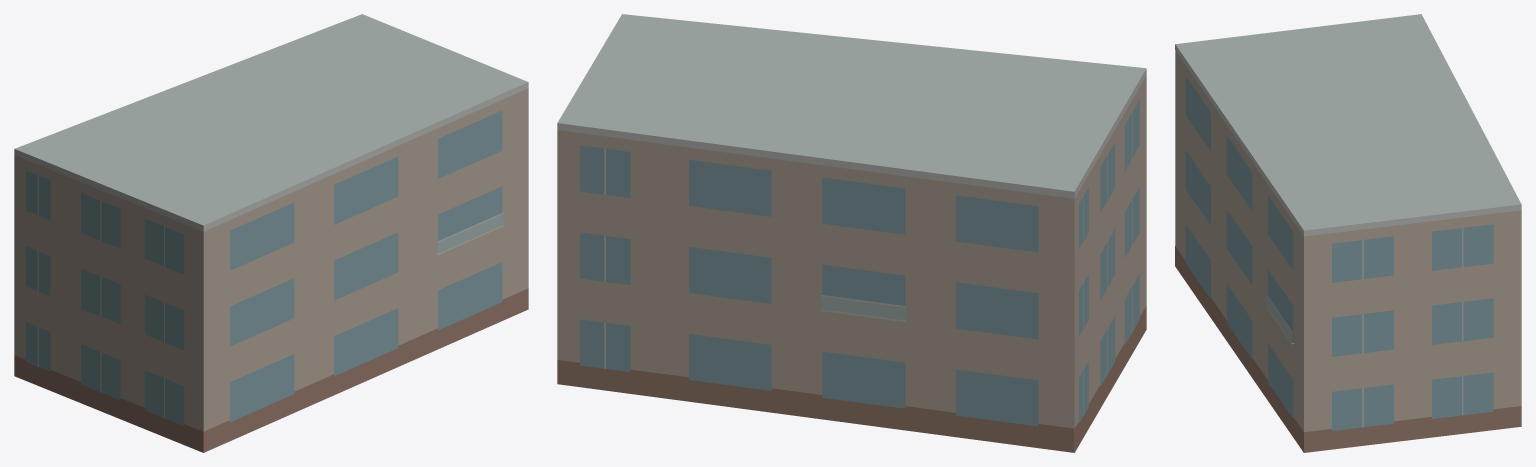
The model's file is survey-upis-32468893.glb.
3 renders of one model, left to right at view 1: azimuth 30°, elevation 25°; view 2: azimuth 150°, elevation 25°; view 3: azimuth 270°, elevation 25°, orthographic. The views are drawn at different scales.
Visible parts, largest first — view 1: survey-upis-32468893.tmp; view 2: survey-upis-32468893.tmp; view 3: survey-upis-32468893.tmp.
Boxes of the visible parts, bbox=[...] form: survey-upis-32468893.tmp: bbox=[14, 14, 528, 452]; survey-upis-32468893.tmp: bbox=[557, 14, 1146, 452]; survey-upis-32468893.tmp: bbox=[1175, 14, 1521, 452].
Size of the model in its own units: 19.14 by 9.15 by 12.94.
